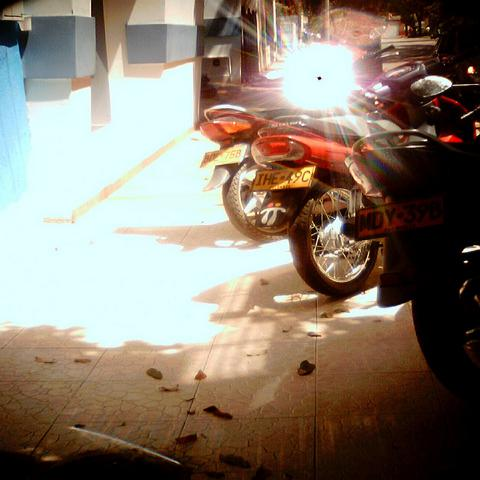motorcycle: (341, 65, 479, 397), (247, 106, 413, 295), (204, 107, 316, 240)
